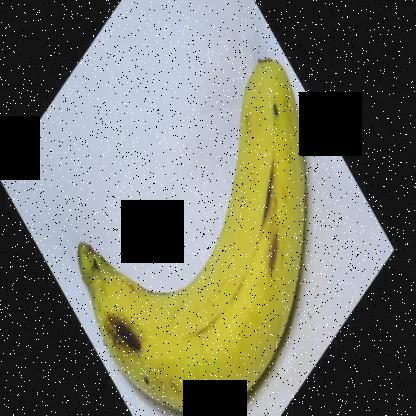freshripe: (68, 41, 314, 415)
